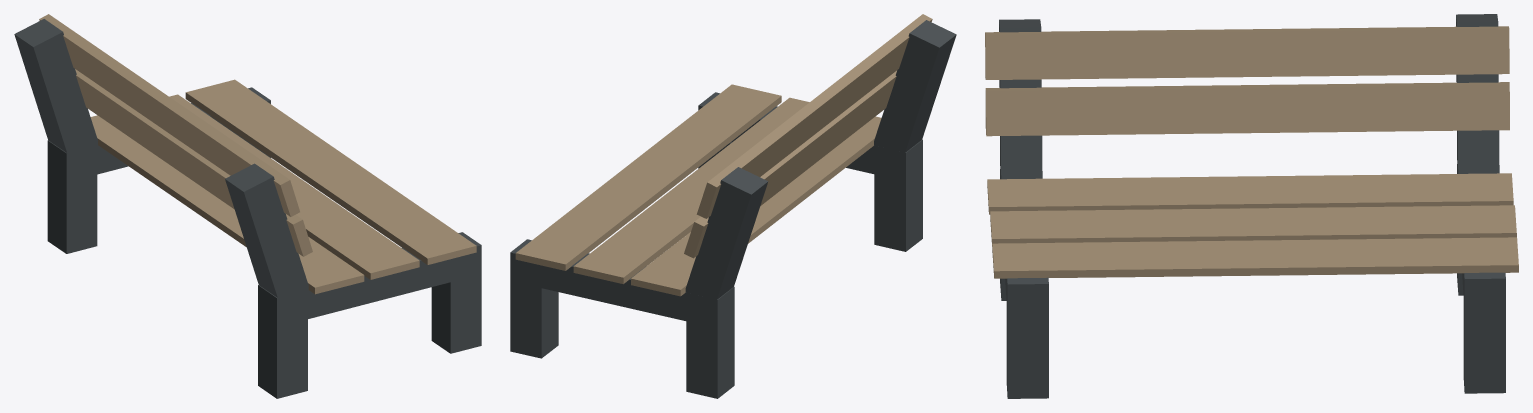
File: Bench_2.glb
3 views of the same model, side by side, from view 1: azimuth 30°, elevation 25°; view 2: azimuth 150°, elevation 25°; view 3: azimuth 270°, elevation 25° (orthographic). The views are drawn at different scales.
Parts seen in each view (by area): view 1: Bench 2; view 2: Bench 2; view 3: Bench 2.
Part boxes in pixels (x1,y1,x2,y2): Bench 2: [14, 14, 481, 398]; Bench 2: [510, 14, 956, 398]; Bench 2: [985, 14, 1518, 398].
Size of the model in its own units: 1.05 by 0.8918 by 1.7.
